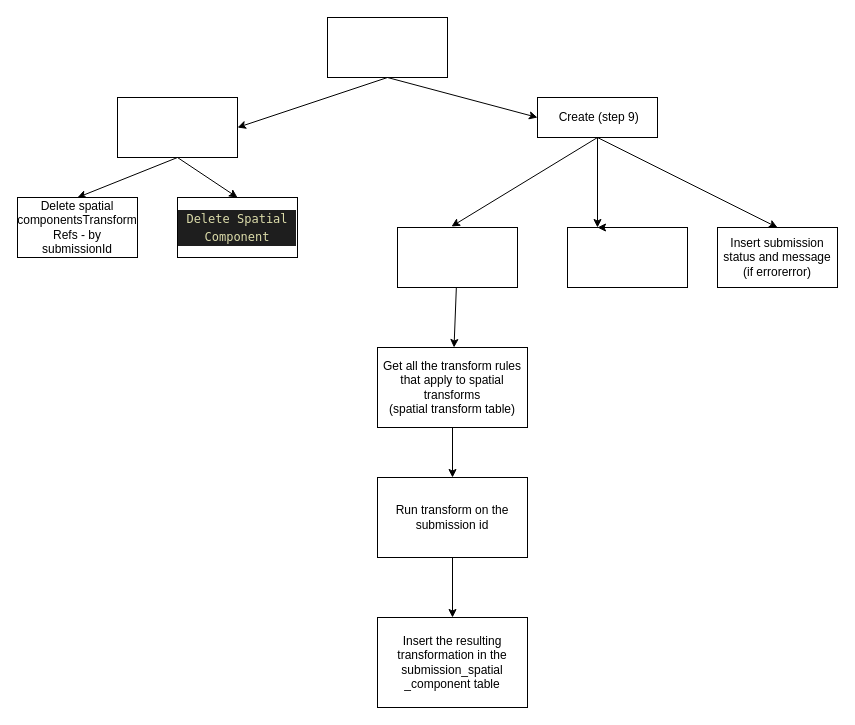
This 855x725 diagram has some shape labels left out. Each missing label, with the centre of its shape:
If submissionId exists: [177,127]
Insert submission status (no error): [627,257]
Intake: [387,47]
Run spatial transforms: [457,257]
